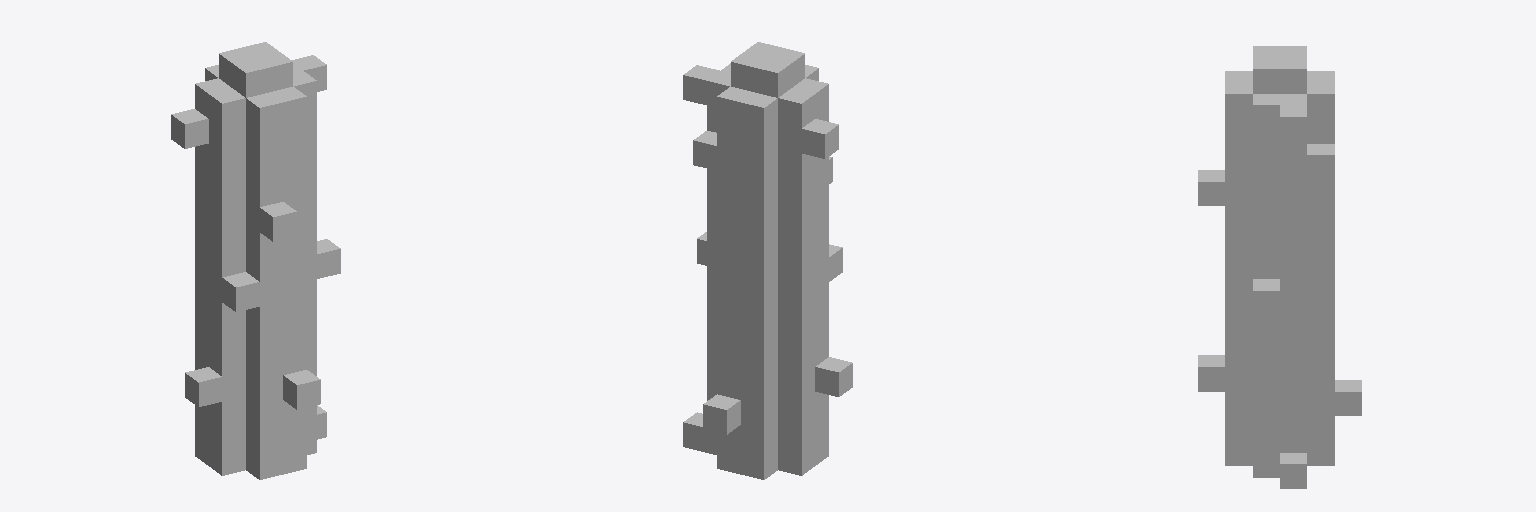
The model's file is cactus_small.obj.
3 views of the same model, side by side, from view 1: azimuth 30°, elevation 25°; view 2: azimuth 150°, elevation 25°; view 3: azimuth 270°, elevation 25° (orthographic).
Bounding box in the file's own units: 6 × 16 × 6.